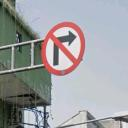NoVirarDireita: (40, 20, 88, 78)
